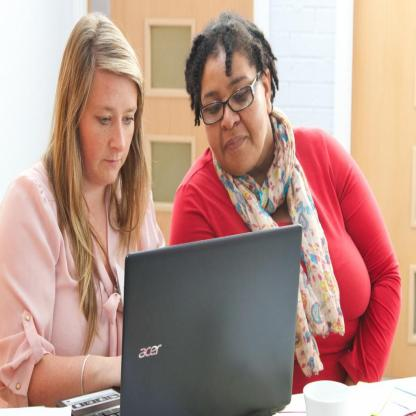board: (58, 221, 304, 416)
